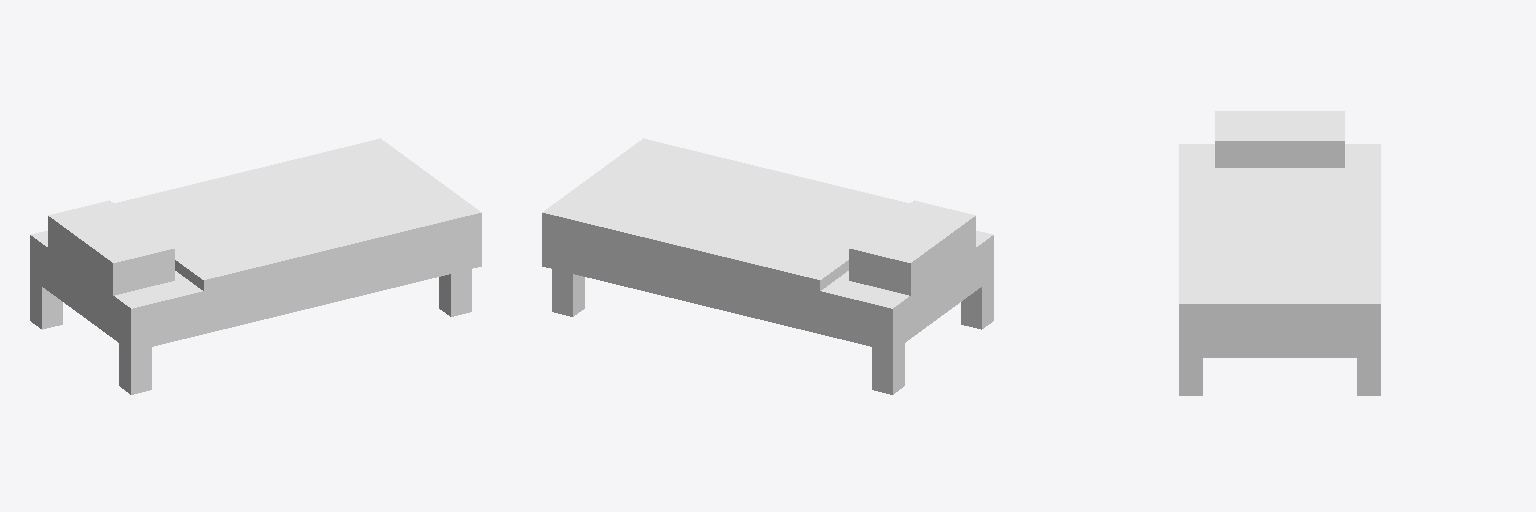
File: classic:bed.obj
3 views of the same model, side by side, from view 1: azimuth 30°, elevation 25°; view 2: azimuth 150°, elevation 25°; view 3: azimuth 270°, elevation 25° (orthographic).
Visible parts, largest first — view 1: classic:bed; view 2: classic:bed; view 3: classic:bed.
Boxes of the visible parts, x1=… form: classic:bed: x1=30, y1=138, x2=481, y2=394; classic:bed: x1=542, y1=138, x2=993, y2=394; classic:bed: x1=1179, y1=111, x2=1380, y2=395.
Size of the model in its own units: 34 by 11 by 17.